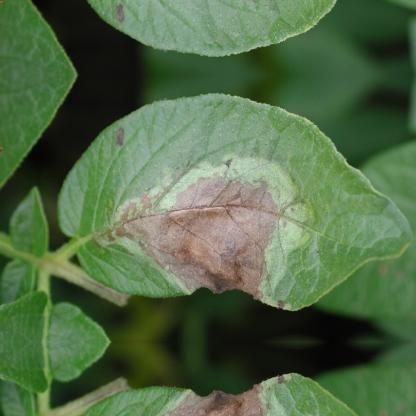Late-Blight: (52, 90, 350, 316), (52, 0, 350, 58), (52, 367, 350, 416)
